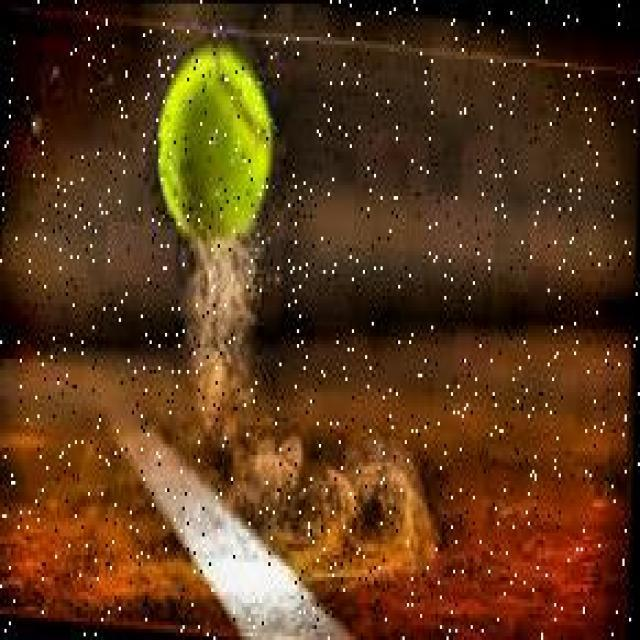tennis-ball: (148, 41, 282, 255)
